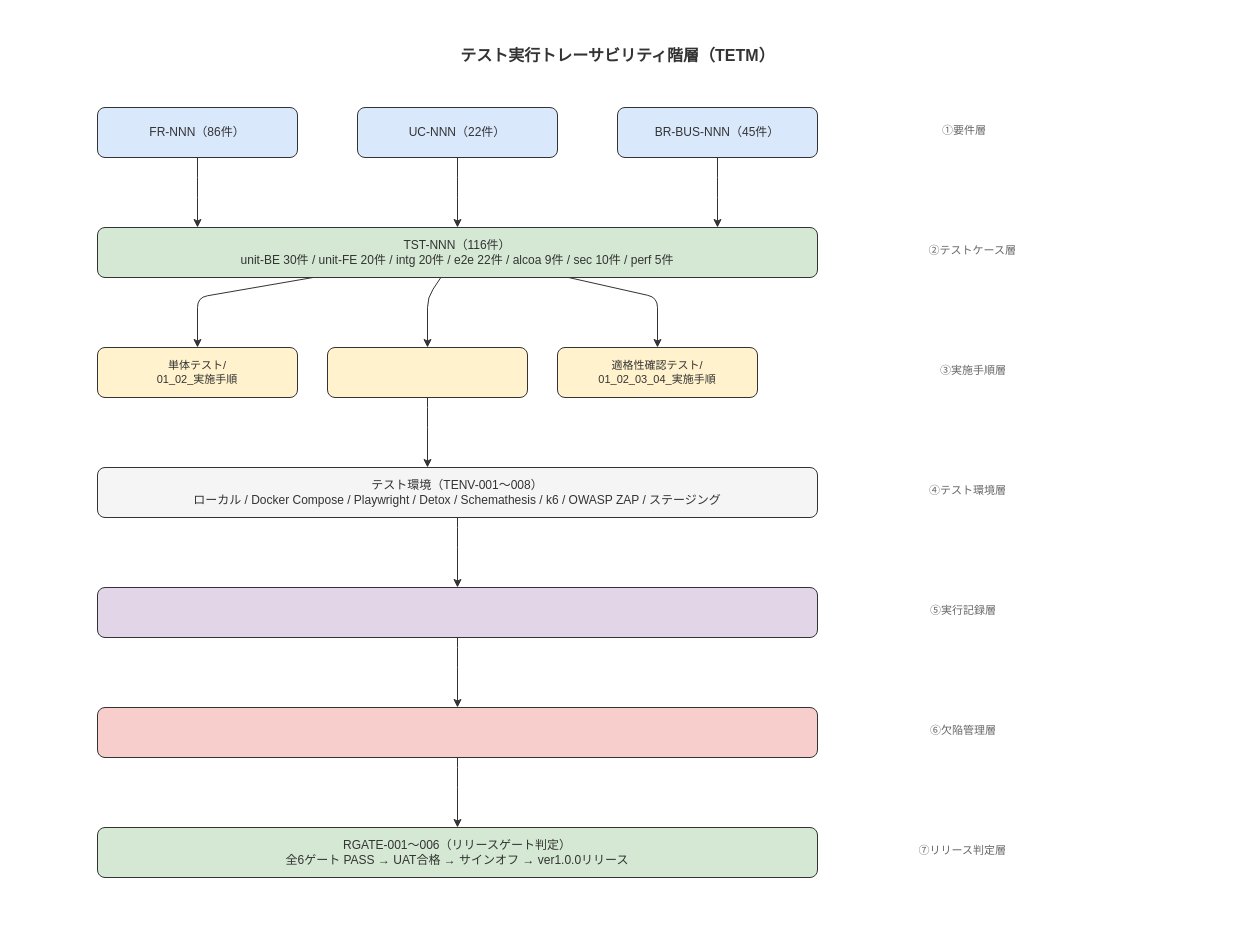
The diagram is 1234 pixels wide and 934 high, and some of its shapes have lost their labels. The centre of each missing label's shape, as x and y in pixels:
DEFECT-NNN（欠陥報告） P1/P2/P3 重大度・状態（OPEN→CLOSED）・修正コミット: (457,732)
TST-EXEC-YYYYMMDD-NNN（テスト実行記録） 実施日・実施者・Pass/Fail件数・カバレッジ実測値: (457,612)
結合テスト/ 01_02_03_実施手順: (427,372)
